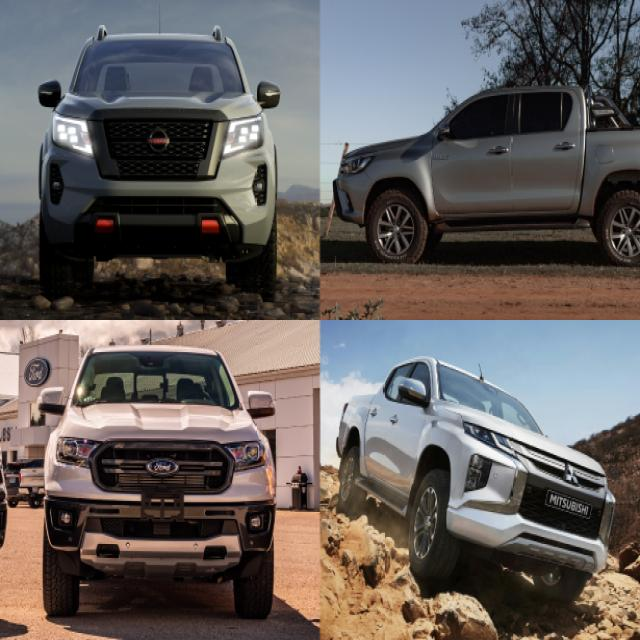Pickup Trucks: (335, 358, 616, 606), (37, 25, 282, 302), (36, 347, 277, 619), (333, 85, 640, 264)
